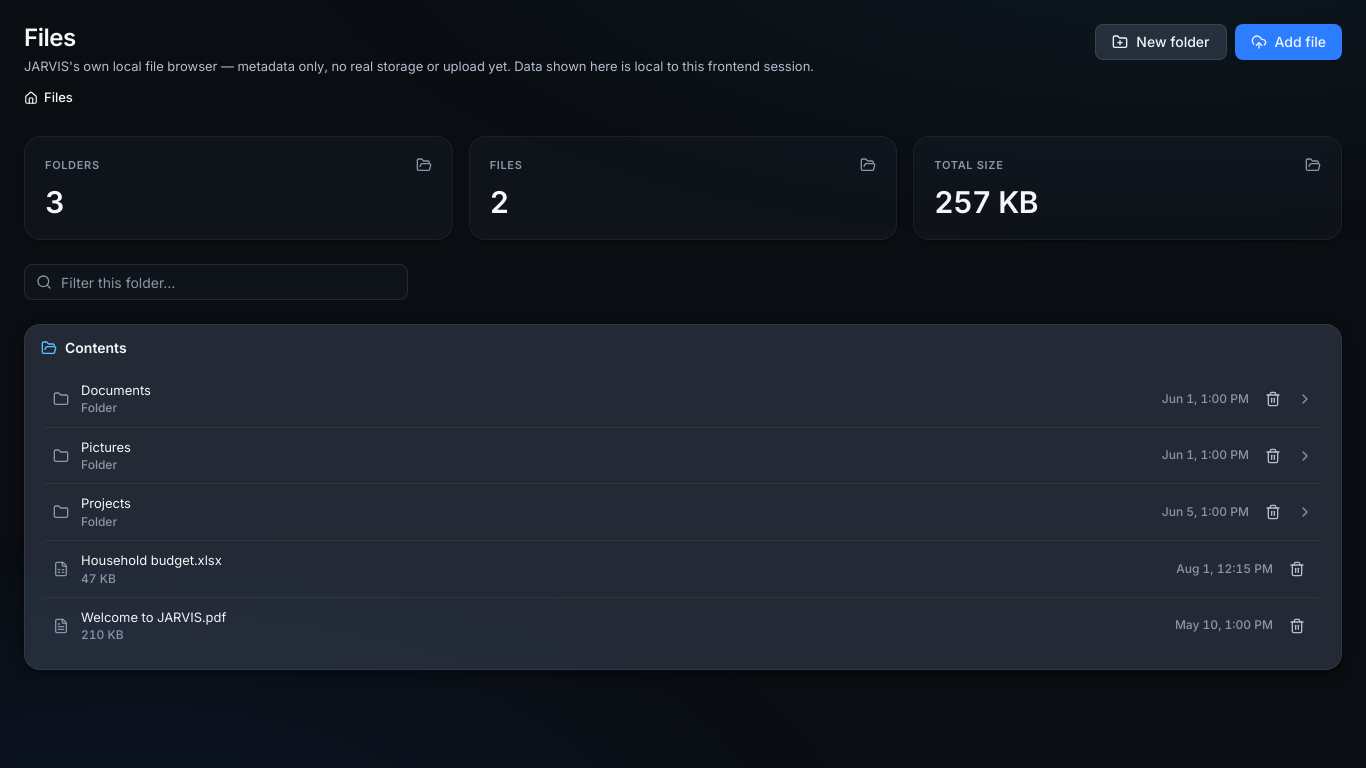
Test: FilesPage › creates a new folder at the current level
Expected: the button with test id "file-row-folder-1" is shown, [41,371,1325,427]
Click the button with test id "files-new-folder": (1161, 42) [1095,24,1226,60]
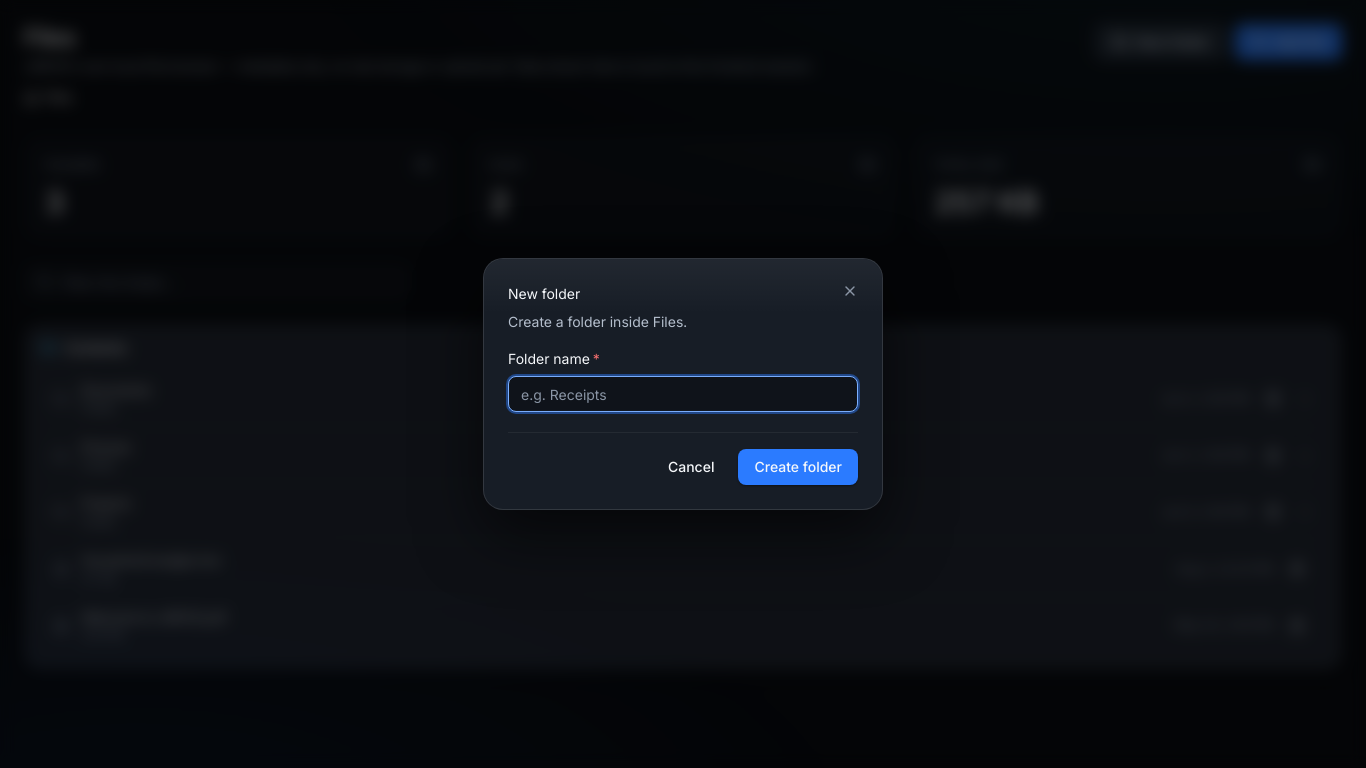
In the field with test id "new-folder-name": (683, 394) [508,376,858,412], type "Receipts"
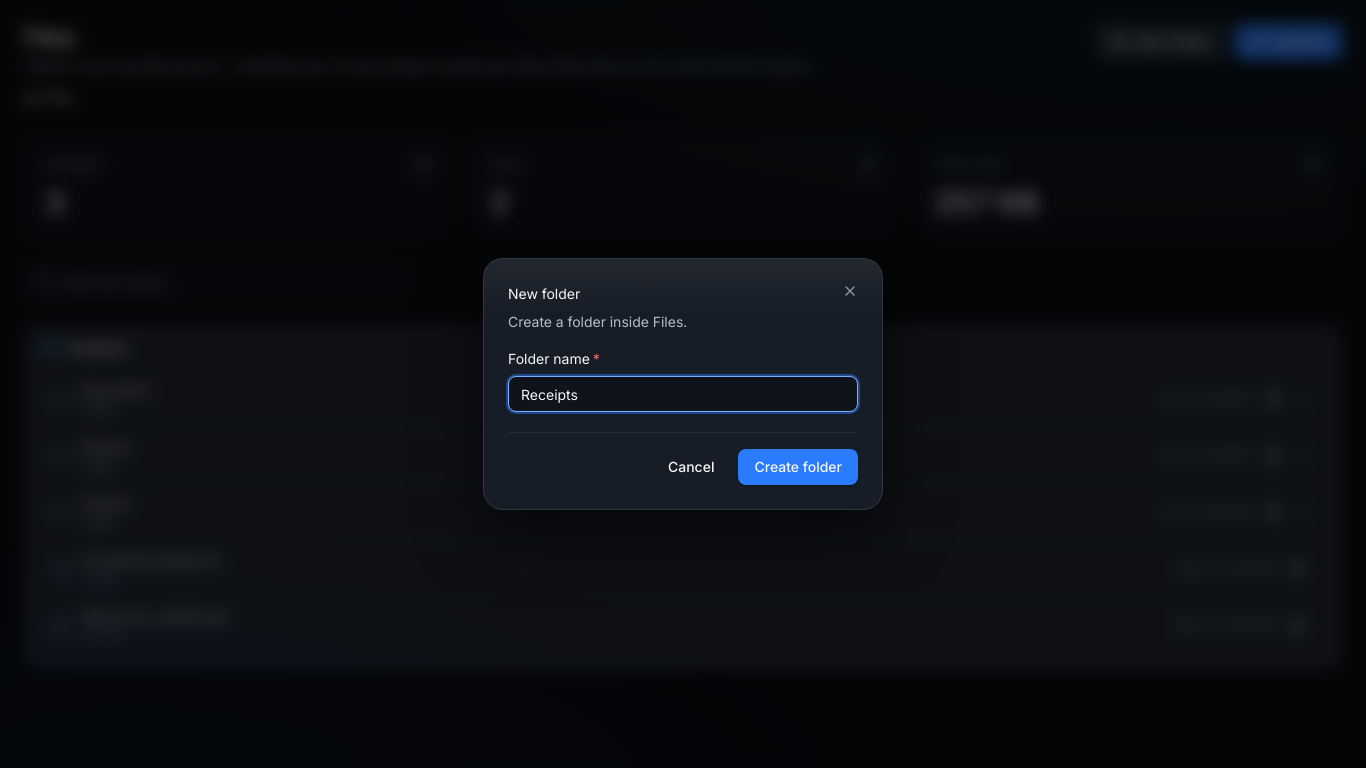
Click the button with test id "new-folder-submit": (798, 467) [738,449,858,485]
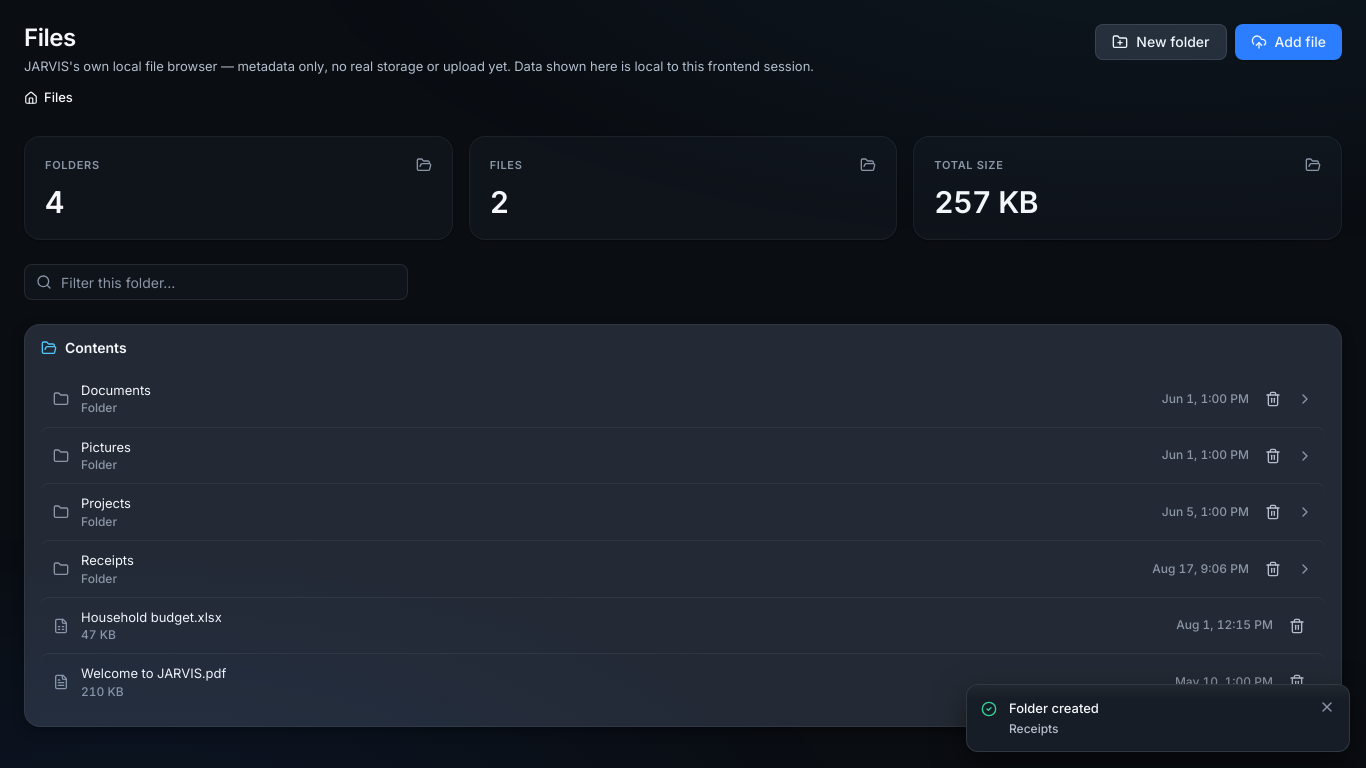
Result: the text "Receipts" below "Contents" is shown at [81,552,134,568]
